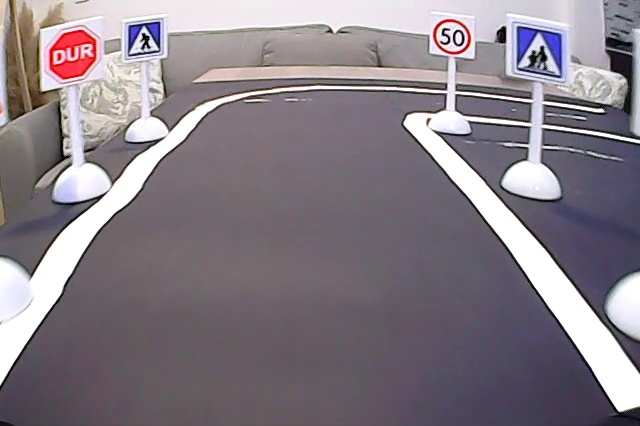pedestrian crossing: (125, 20, 163, 58)
school crossing: (509, 18, 563, 79)
speed limit 50: (432, 17, 472, 59)
stop sign: (42, 25, 104, 83)
